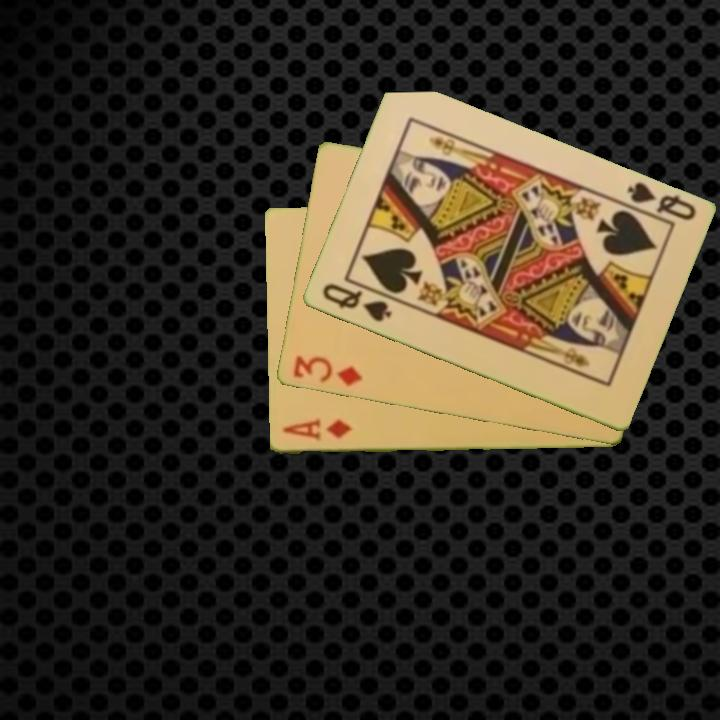3d: (289, 352, 365, 390)
Ad: (279, 416, 355, 445)
Qs: (623, 178, 698, 224), (318, 280, 394, 325)
